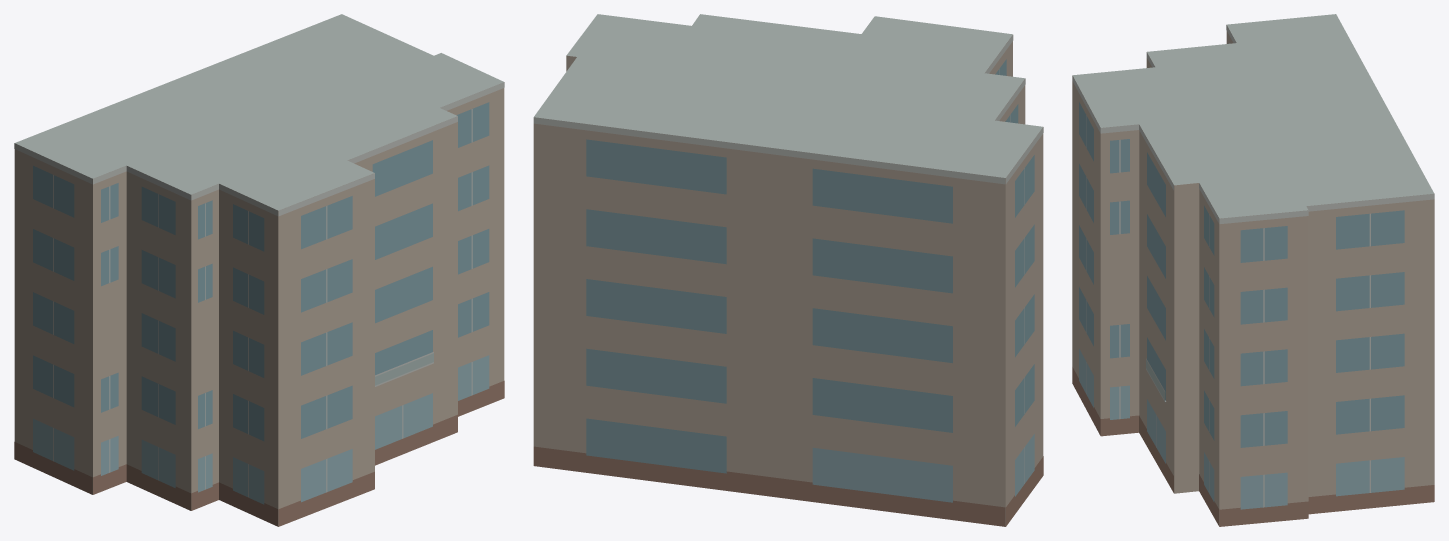
Rendered from survey-upis-32550548.glb.
3 renders of one model, left to right at view 1: azimuth 30°, elevation 25°; view 2: azimuth 150°, elevation 25°; view 3: azimuth 270°, elevation 25°, orthographic. The views are drawn at different scales.
Parts seen in each view (by area): view 1: survey-upis-32550548.tmp; view 2: survey-upis-32550548.tmp; view 3: survey-upis-32550548.tmp.
Part boxes in pixels (x1,y1,x2,y2): survey-upis-32550548.tmp: (14, 14, 504, 526); survey-upis-32550548.tmp: (533, 14, 1043, 526); survey-upis-32550548.tmp: (1072, 14, 1434, 526).
Bounding box in the file's own units: 18.94 × 13.3 × 14.16.
